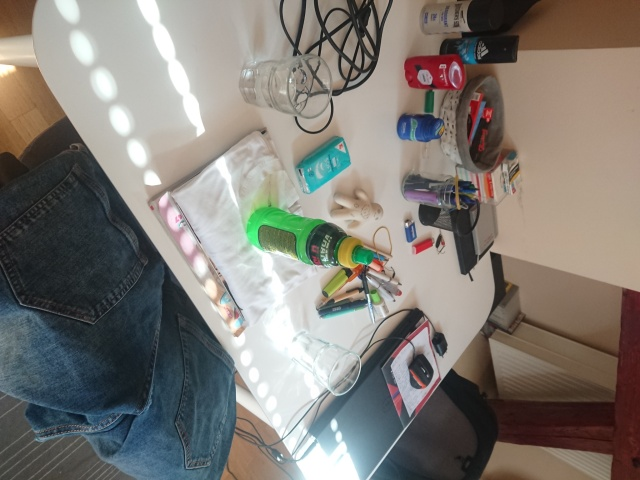Vindi Iso Sport Lemon-Grapefruit 500mL: (243, 204, 377, 271)
